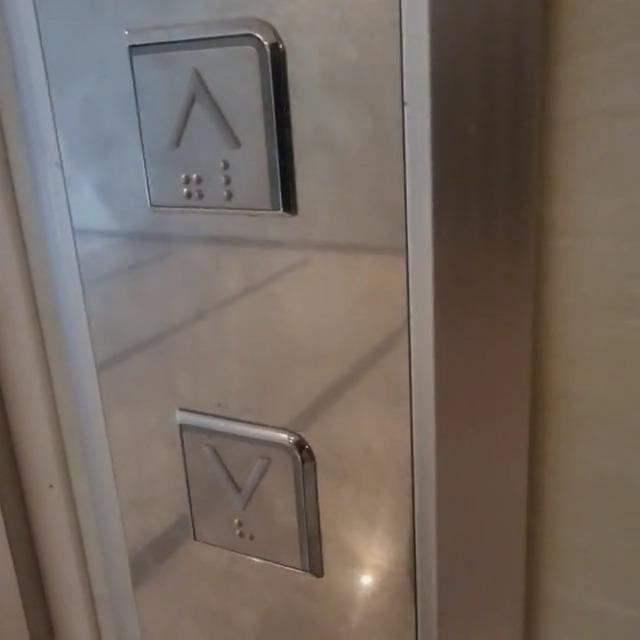button: (124, 22, 285, 208), (167, 412, 310, 562)
